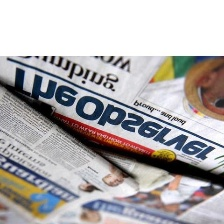news_paper: (0, 54, 224, 179), (0, 83, 146, 224), (44, 145, 224, 224)
